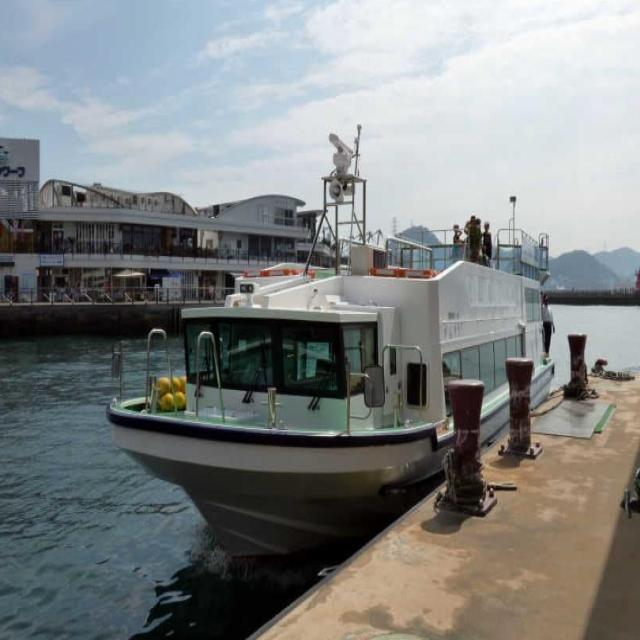houseboat: (105, 180, 561, 528)
